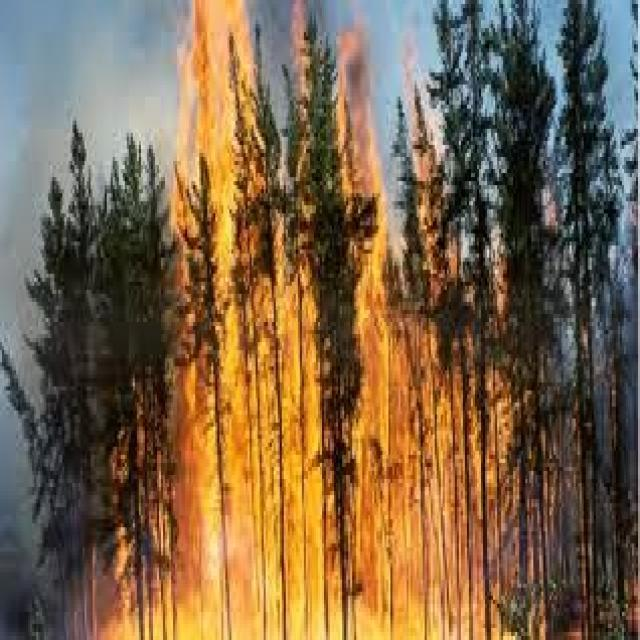Fire: (176, 260, 450, 640), (174, 0, 252, 244)
